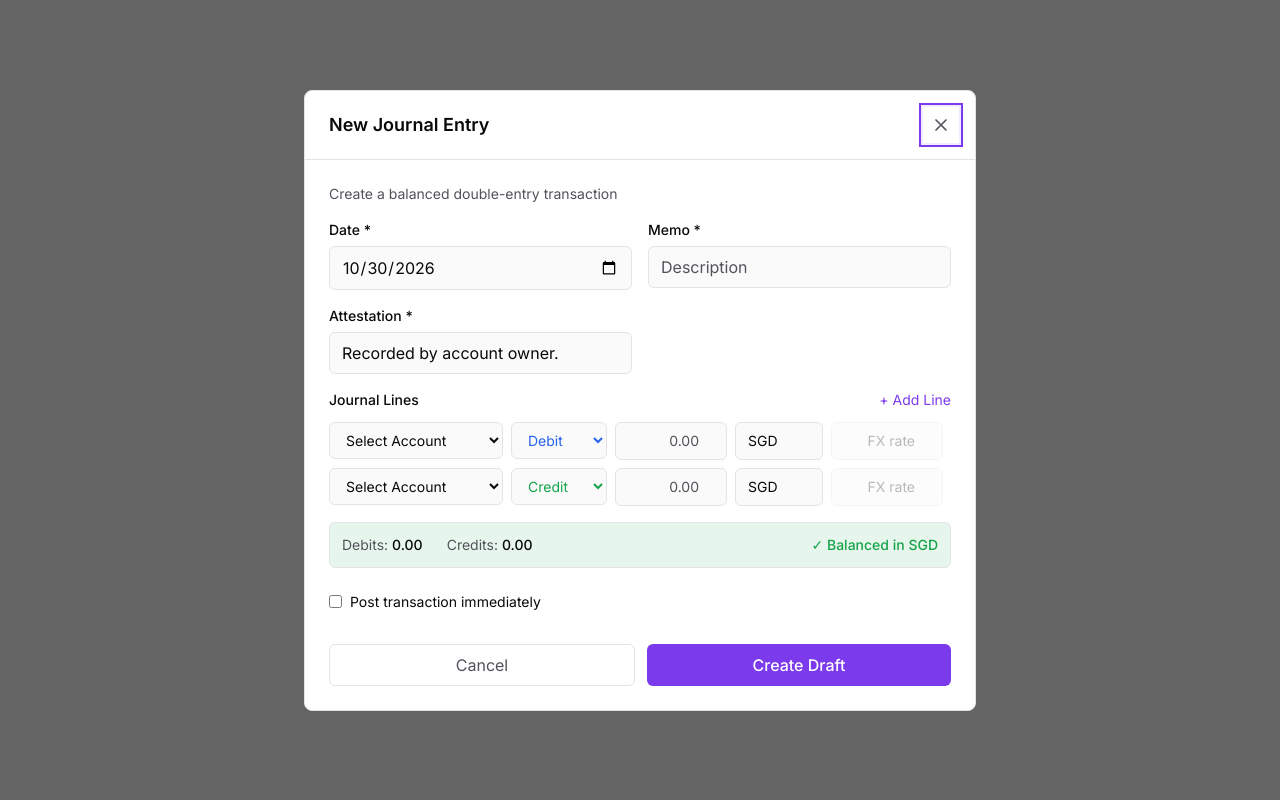
JournalEntryForm › AC16.21.6 surfaces form-level and API errors
Click the button "Create Draft". click: (799, 664)
box: [647,644,951,686]
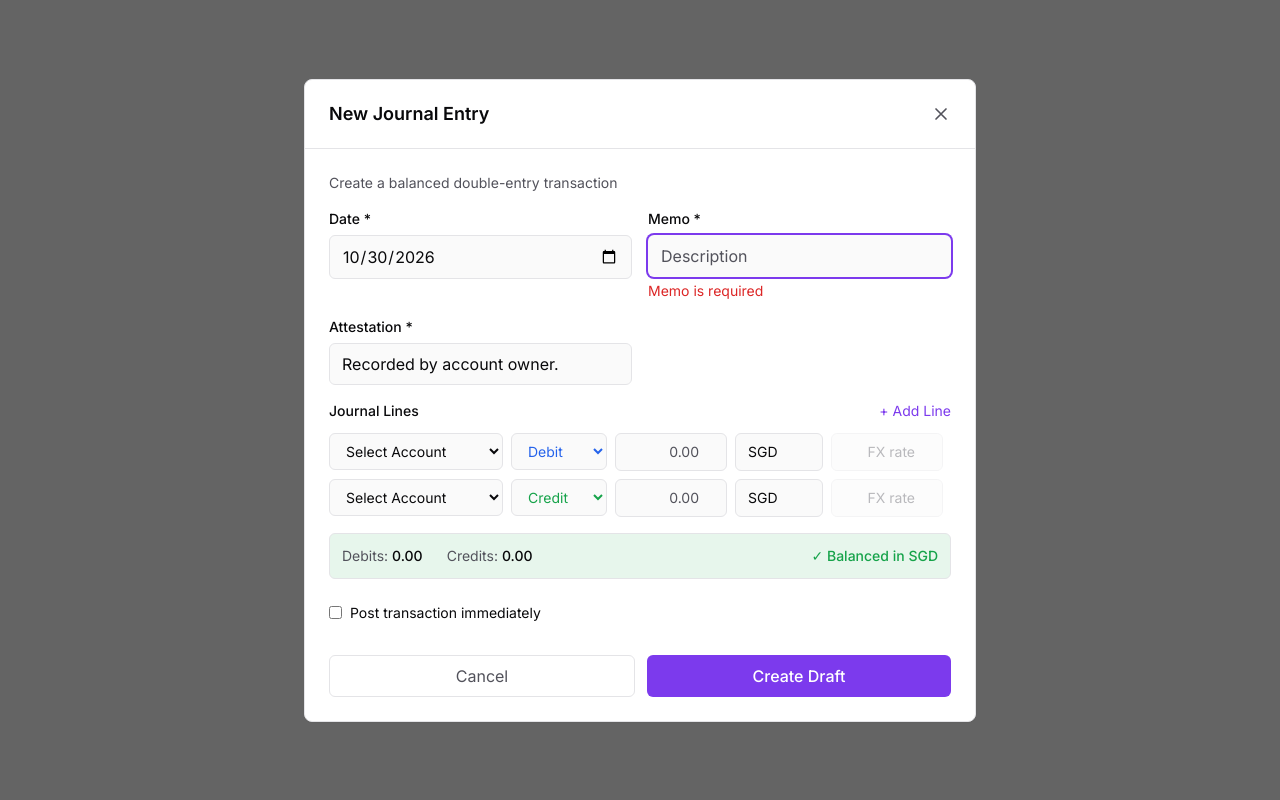
Now the text "Memo is required" is shown, box [648,282,763,298]
Type "2026-02-03" into the date field named "entry_date". click: (480, 256)
box: [329,234,632,278]
Type "Try submit" into the field with placeholder "Description". click: (800, 256)
box: [648,234,951,276]
Select "1000 - Cash" in the dropdown named "Line 1 account". click: (416, 452)
box: [329,433,503,470]
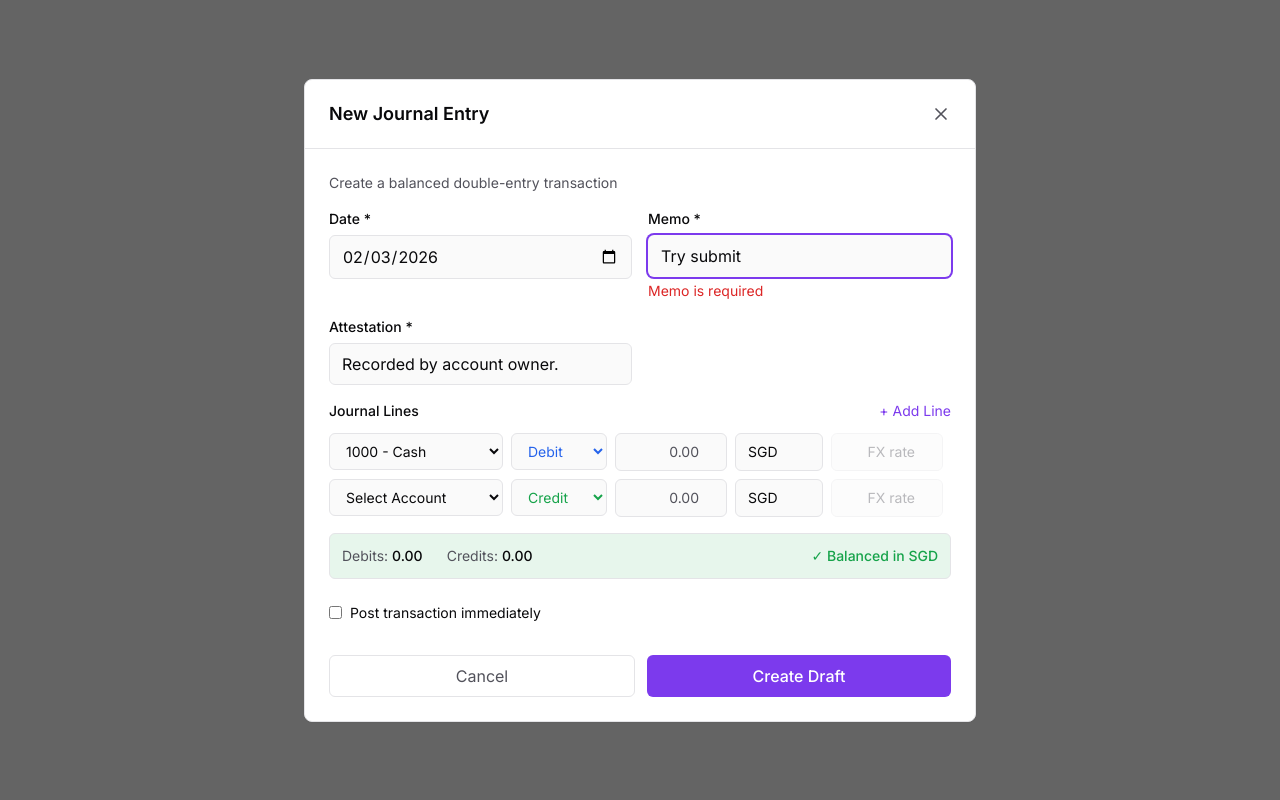
Select "4000 - Revenue" in the dropdown named "Line 2 account". click: (416, 498)
box: [329,479,503,516]
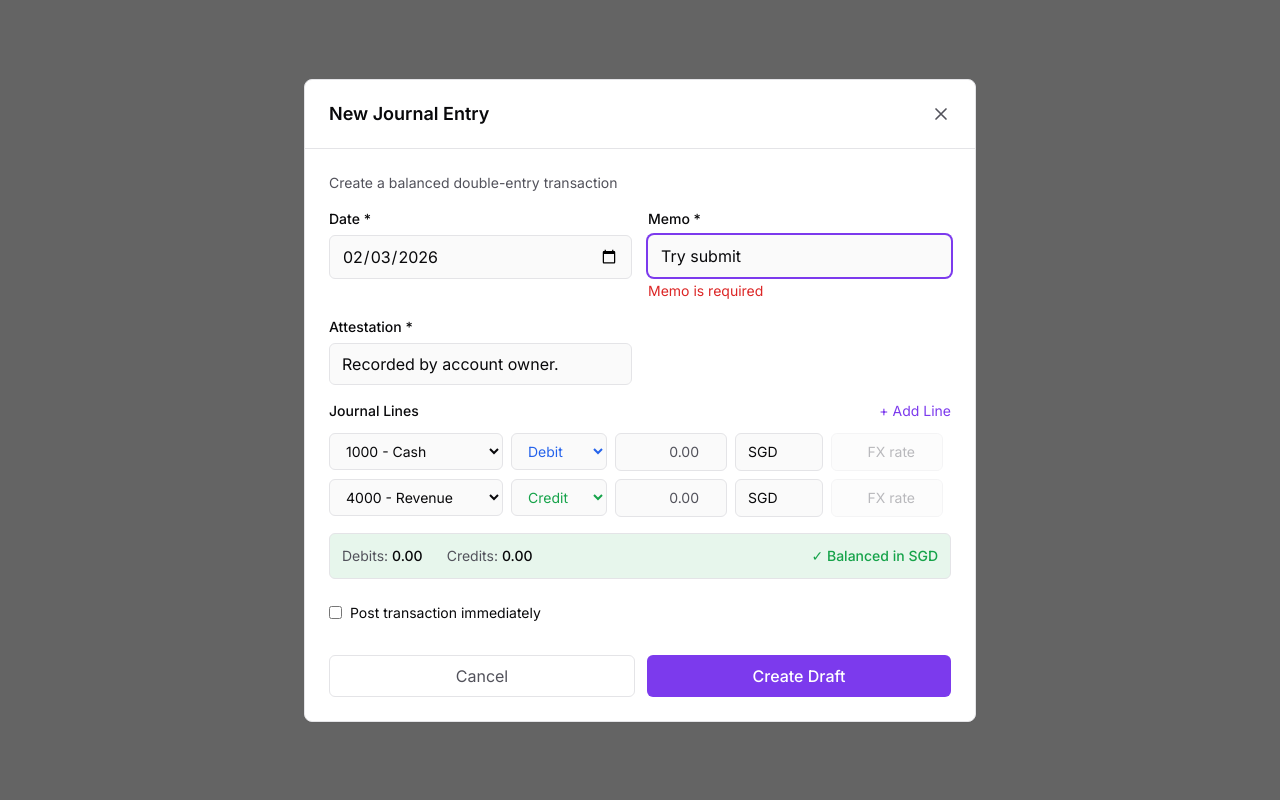
Type "50" into the 1st number field with placeholder "0.00". click: (671, 452)
box: [615,432,727,470]
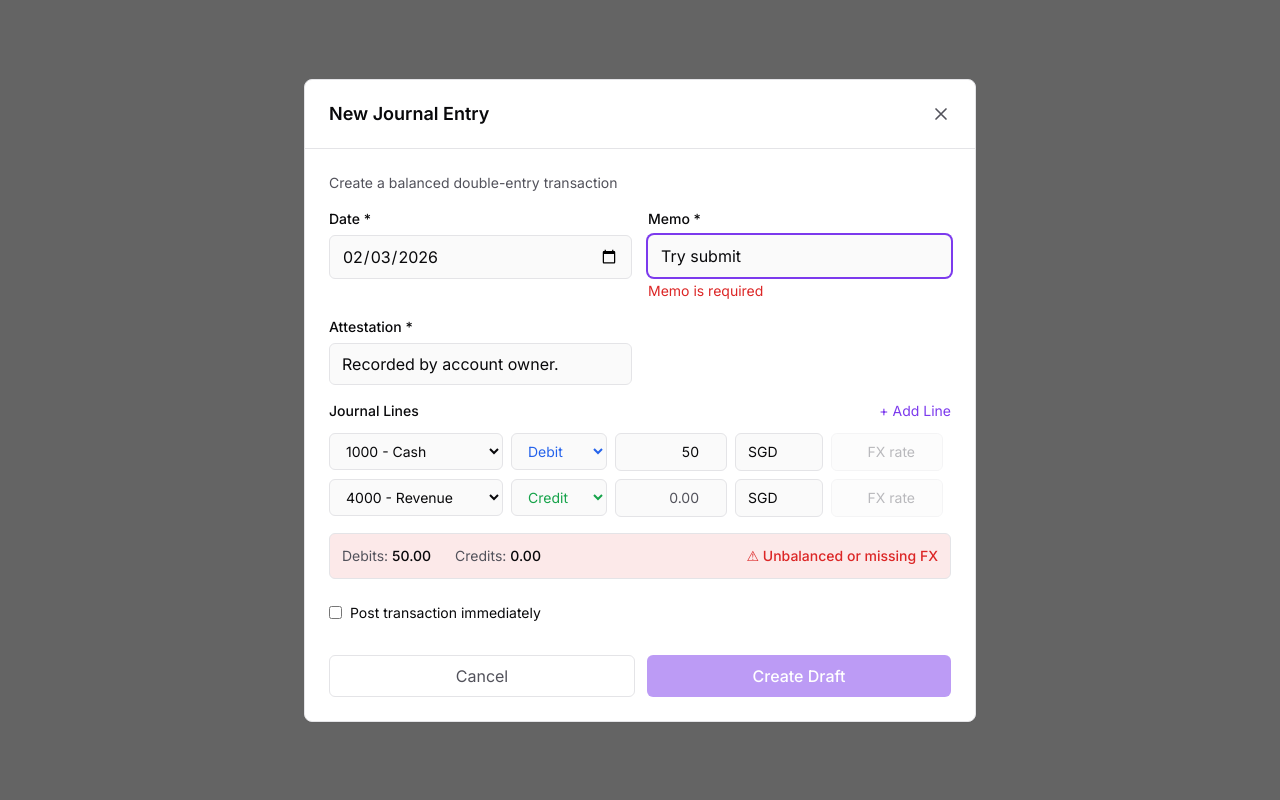
Type "50" into the number field with placeholder "0.00". click: (671, 498)
box: [615,478,727,516]
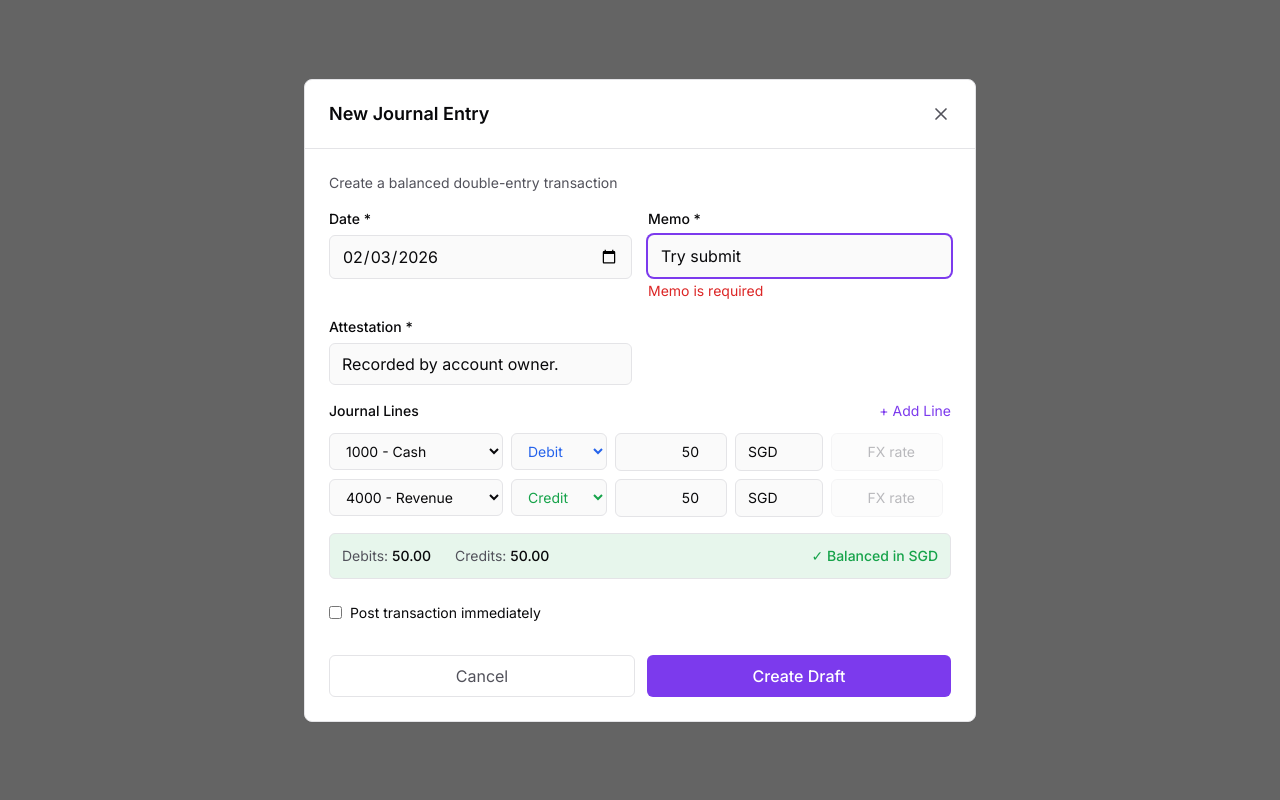
Submit the form, box [329,208,951,696]
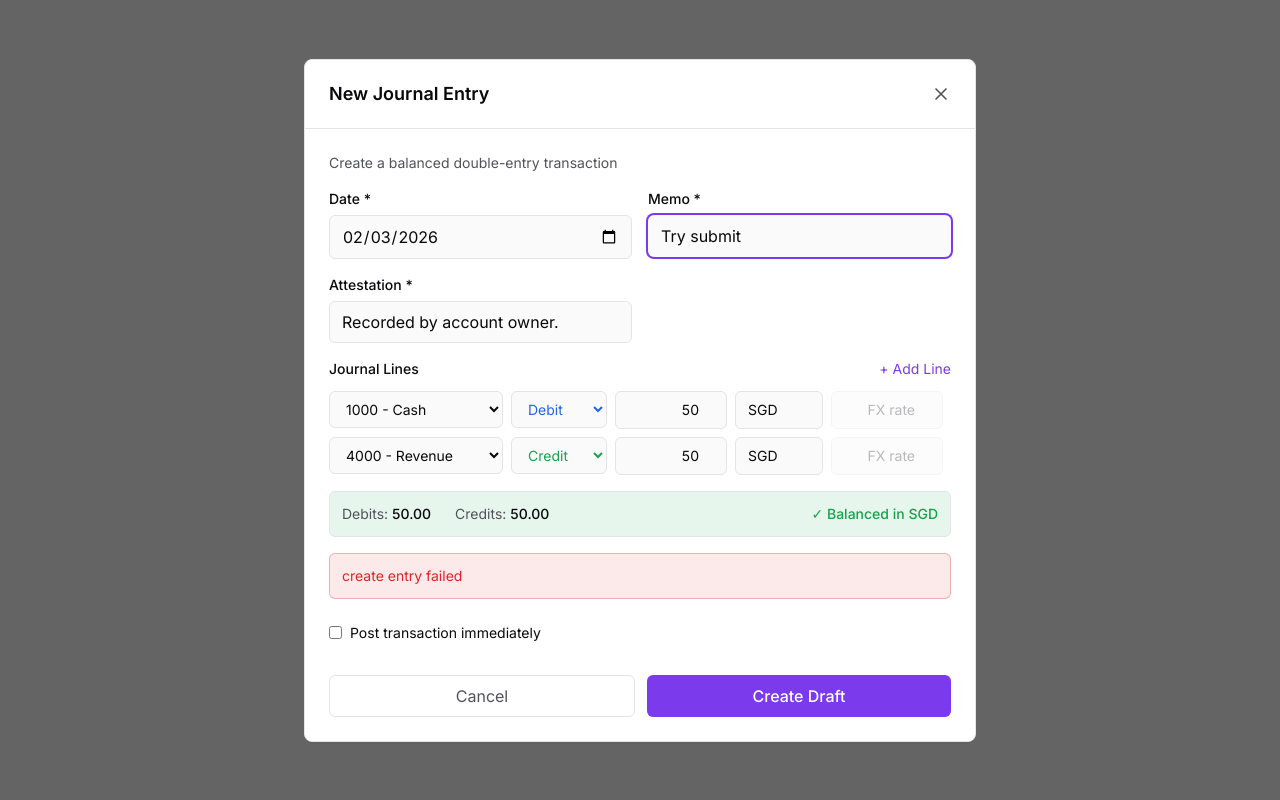
Now the text "create entry failed" is shown, box [329,552,951,598]
